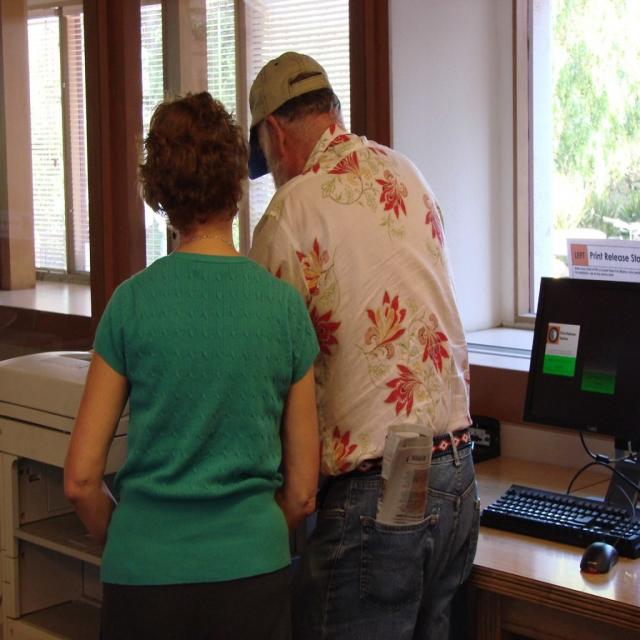desk: (472, 454, 640, 639)
keyboard: (479, 482, 640, 558)
mouse: (580, 543, 619, 575)
person: (62, 91, 318, 640), (246, 54, 484, 640)
tv: (522, 277, 640, 445)
